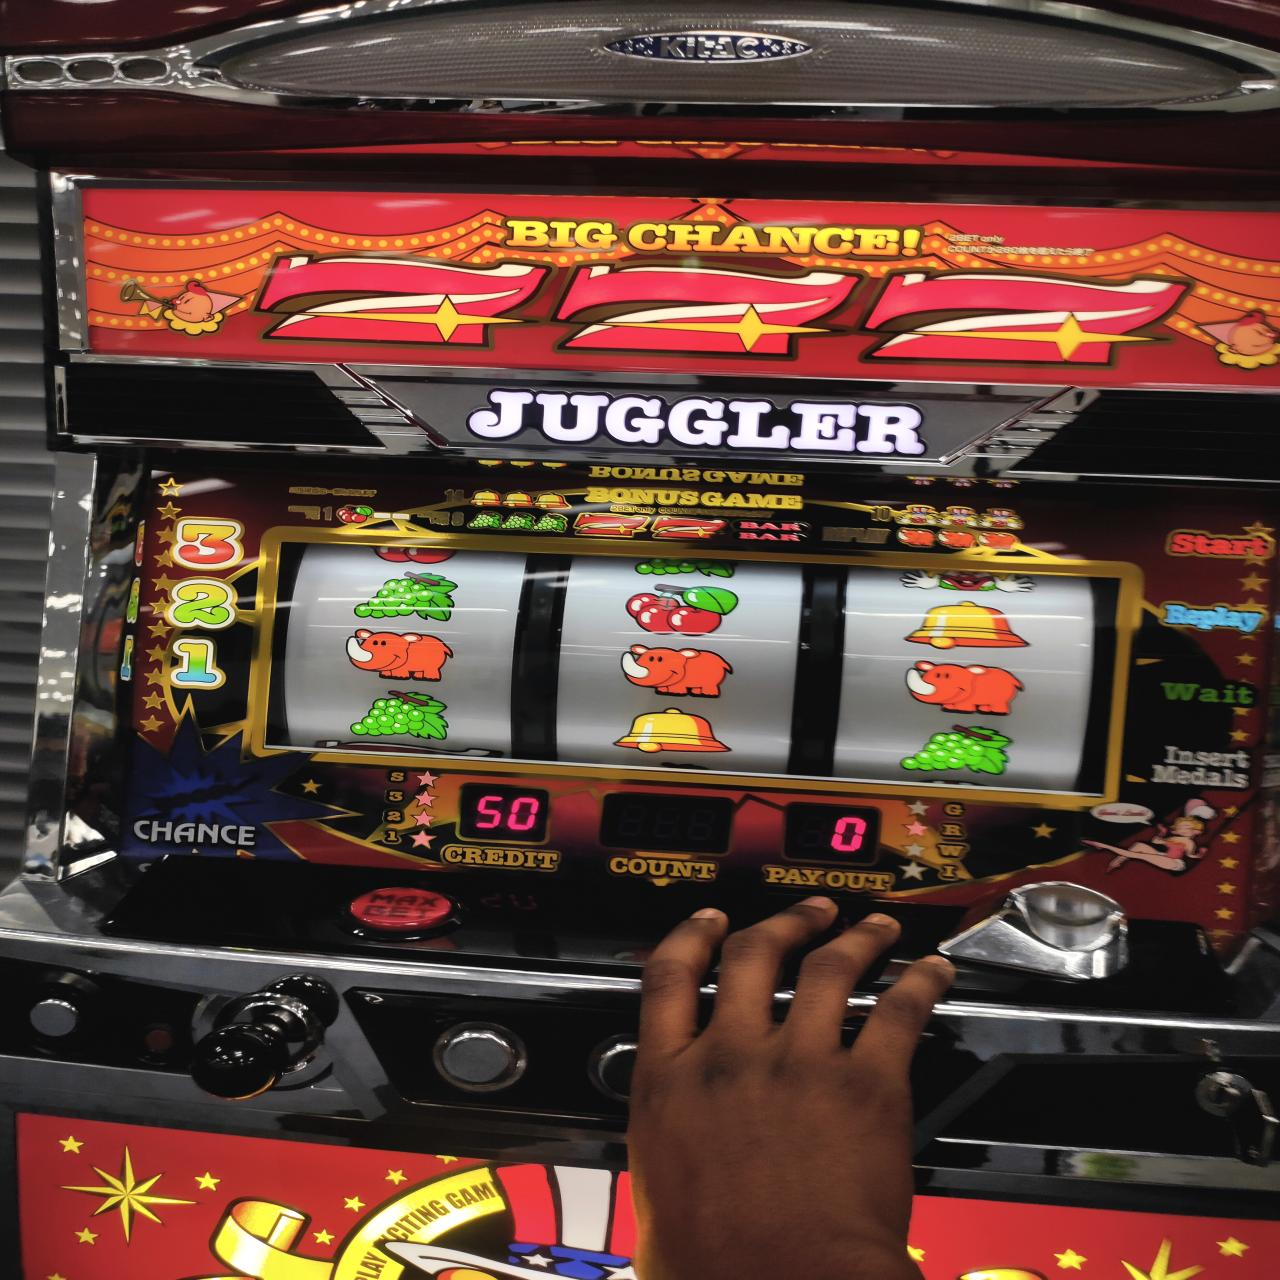8: (904, 660, 1027, 715), (620, 644, 738, 700), (343, 629, 455, 680)
Display: (270, 535, 1114, 798)
bell: (906, 599, 1029, 651), (611, 707, 733, 755)
cherry: (625, 583, 738, 635)
grape: (903, 723, 1013, 777), (350, 570, 459, 624), (352, 689, 452, 740)
